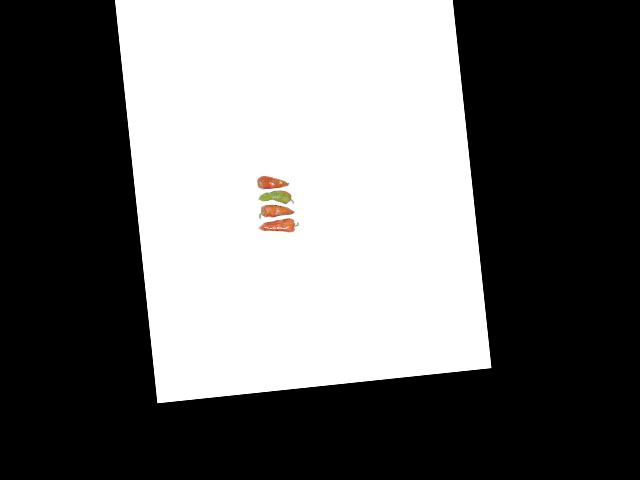bell_pepper: (255, 169, 292, 191)
